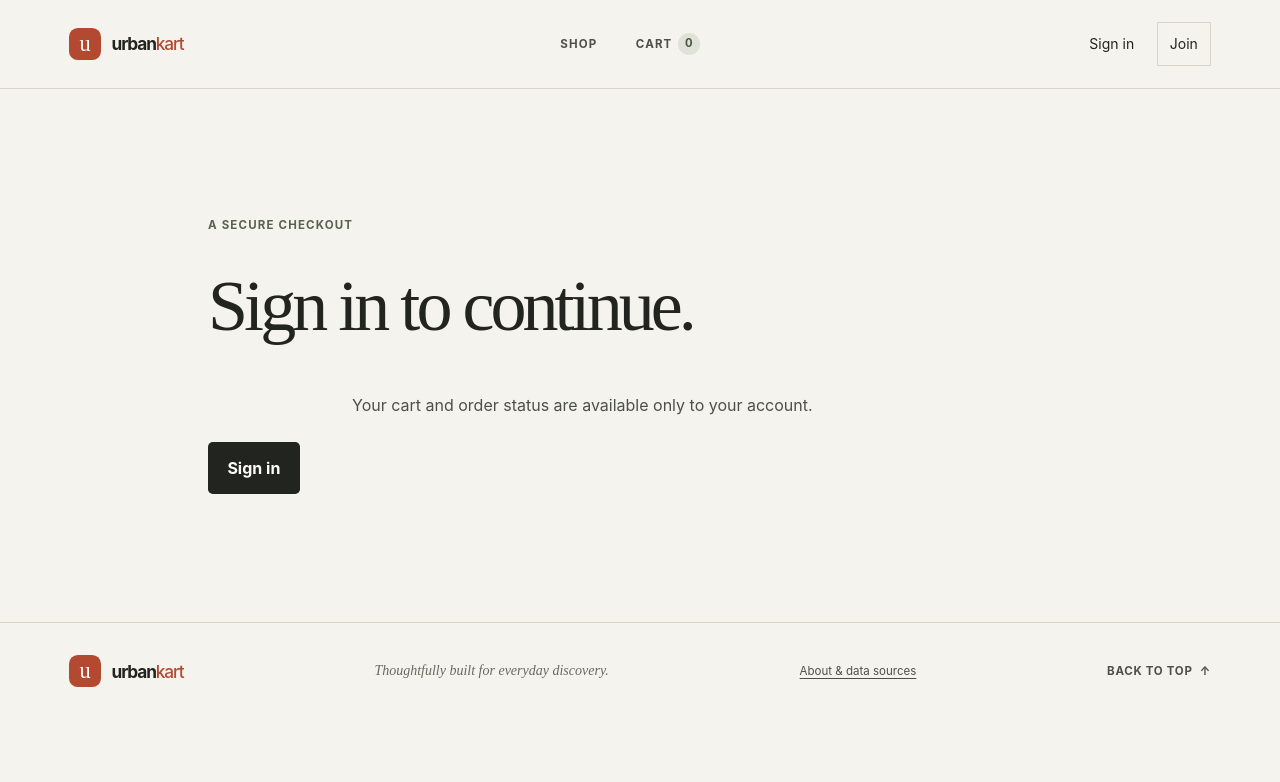
it: Stage H checkout flow › shows a definitive stock conflict without claiming success
Step 1. Click the link "Sign in" below "Sign in to continue." → (254, 468), box [208,442,300,494]
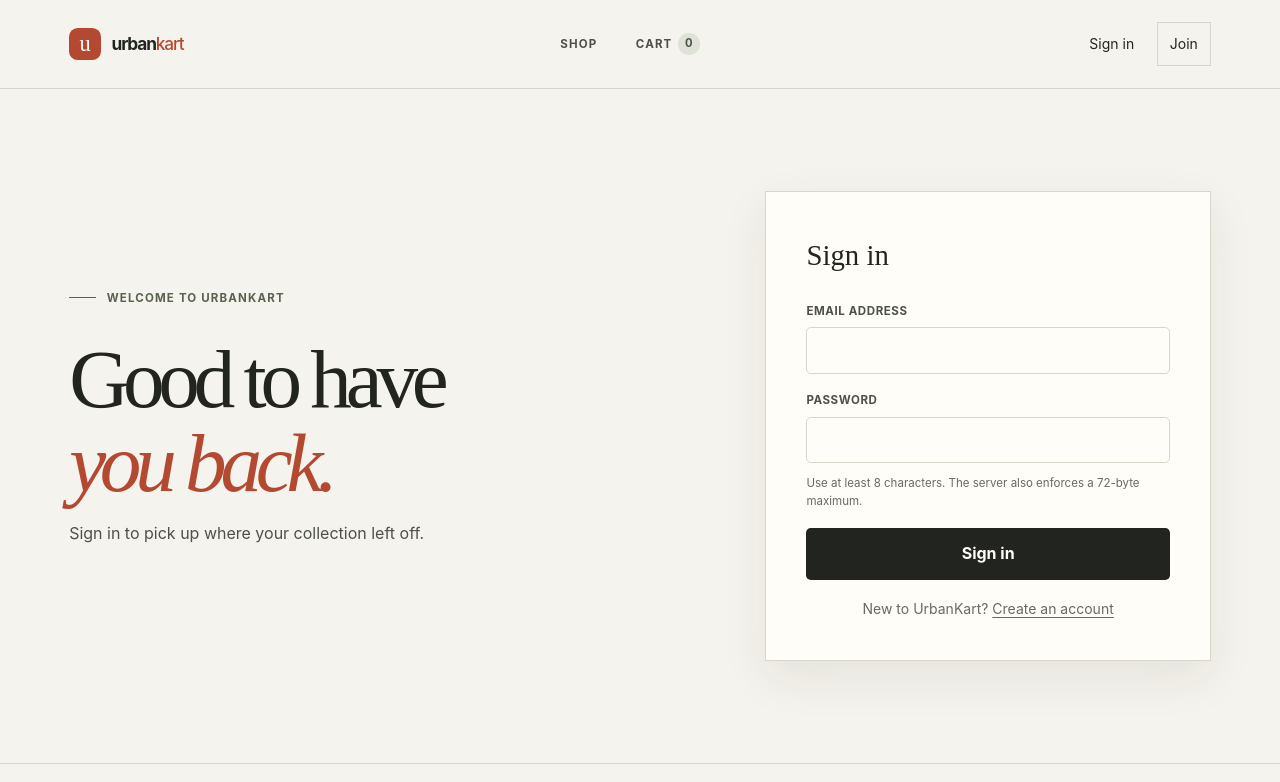
Step 2. Type "shopper@example.test" into the field labelled "Email address" → (988, 350), box [806,327,1170,374]
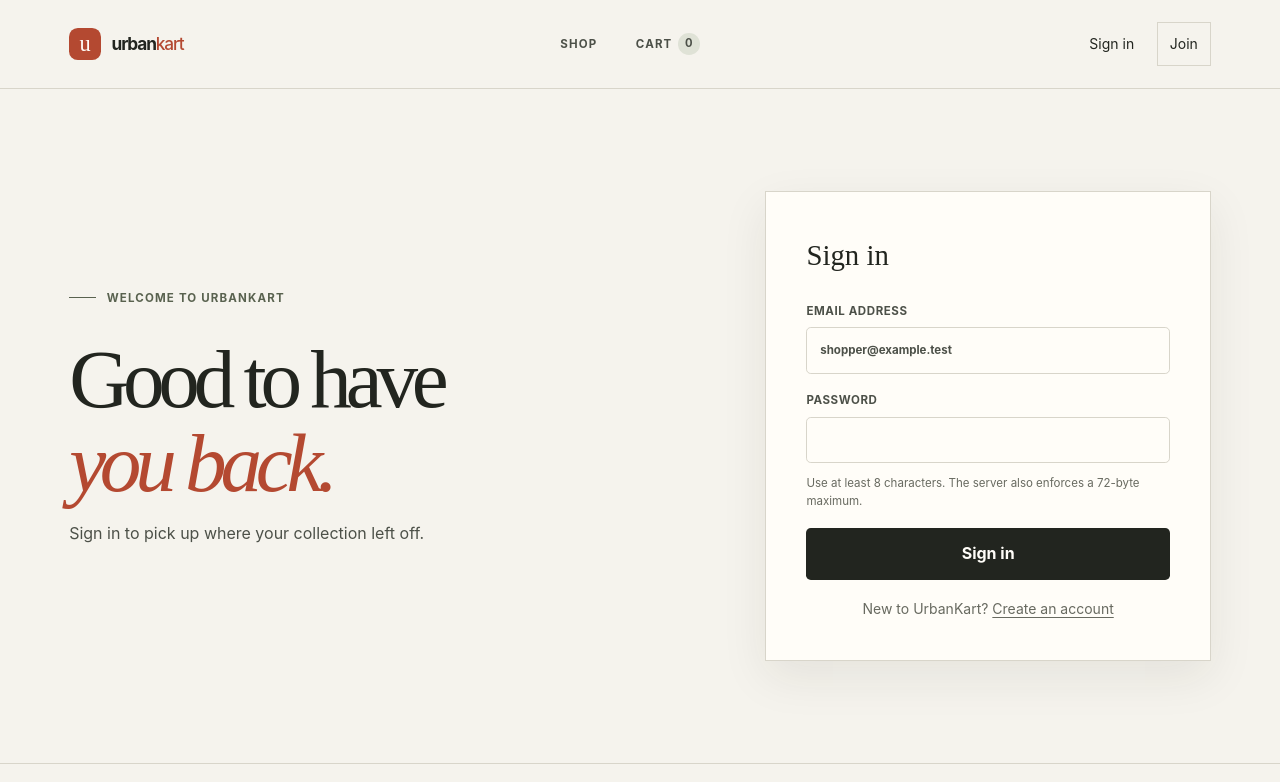
Step 3. Type "correct-horse" into the password field labelled "Password" → (988, 440), box [806,417,1170,463]
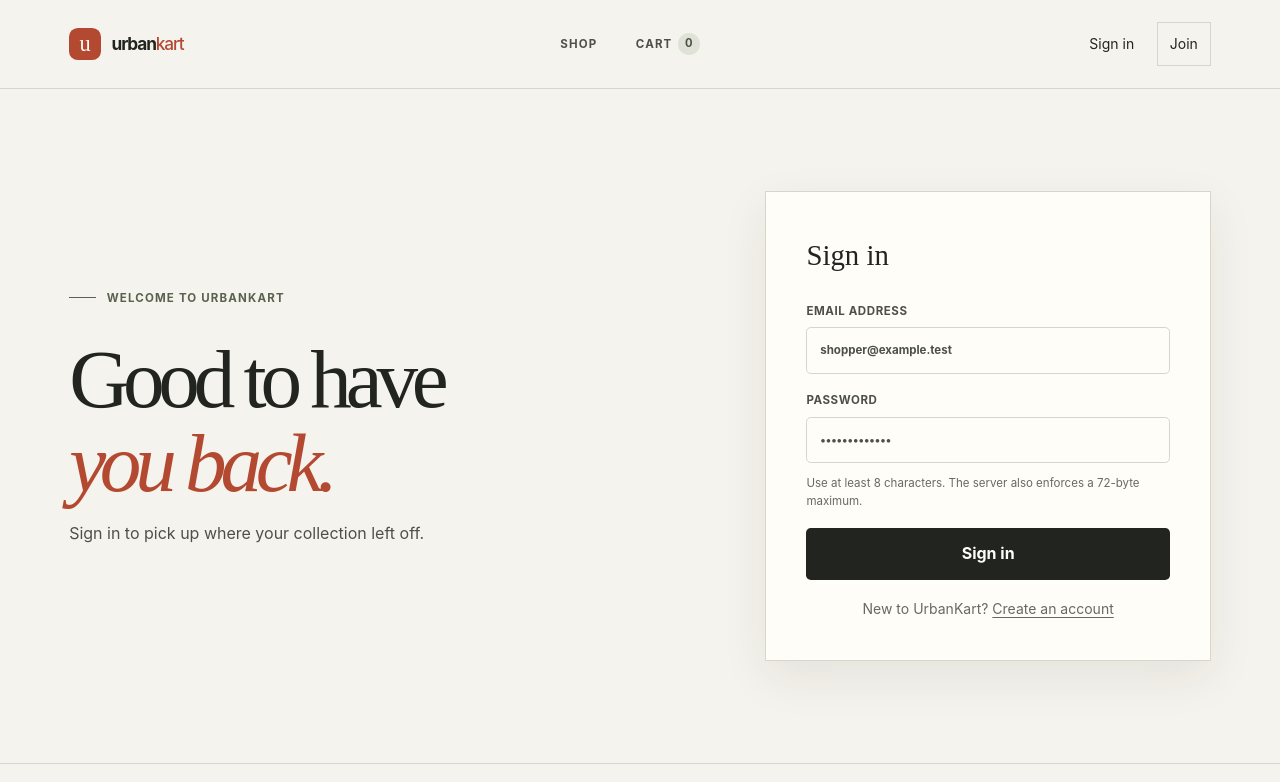
Step 4. Click the button "Sign in" → (988, 554), box [806,528,1170,580]
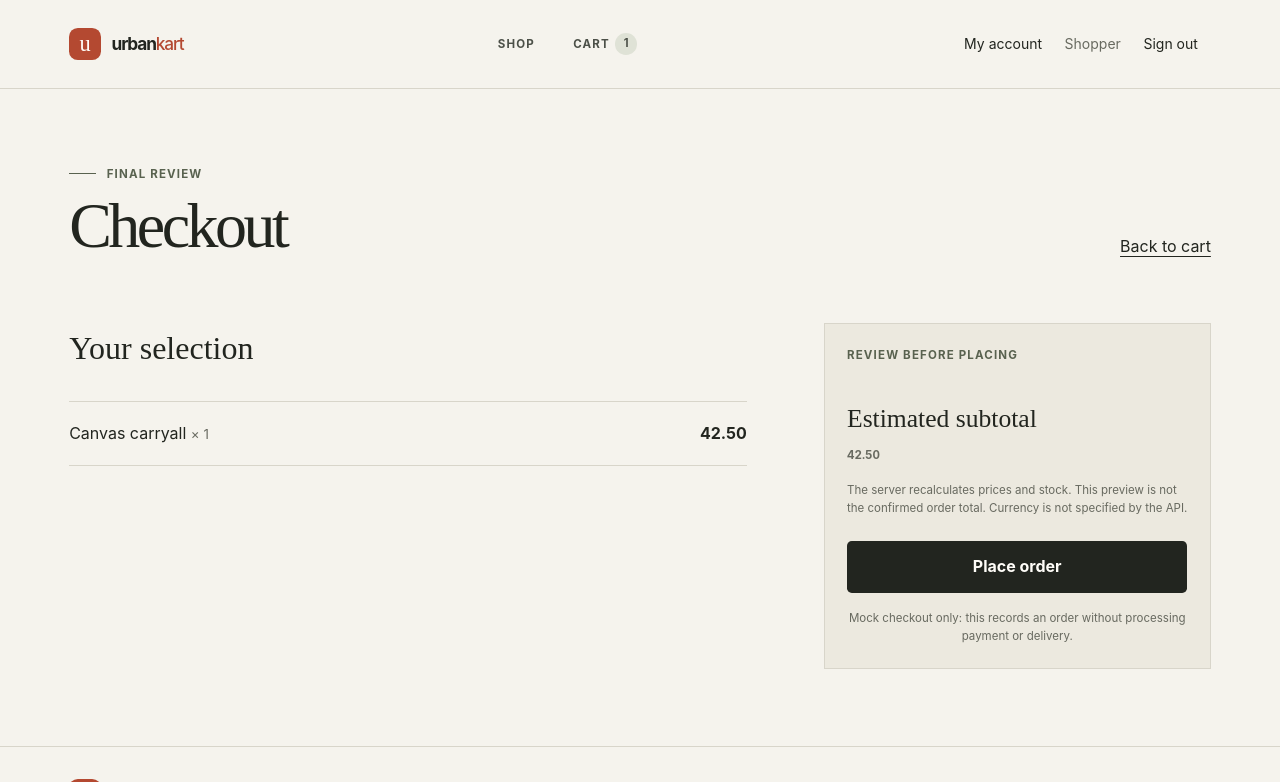
Result: the button "Sign out" is shown at [1130,22,1211,66]
Result: the heading "Checkout" is shown at [69,192,286,260]
Result: the button "Place order" is shown
Step 5. Click the button "Place order" → (1017, 567), box [847,541,1188,593]
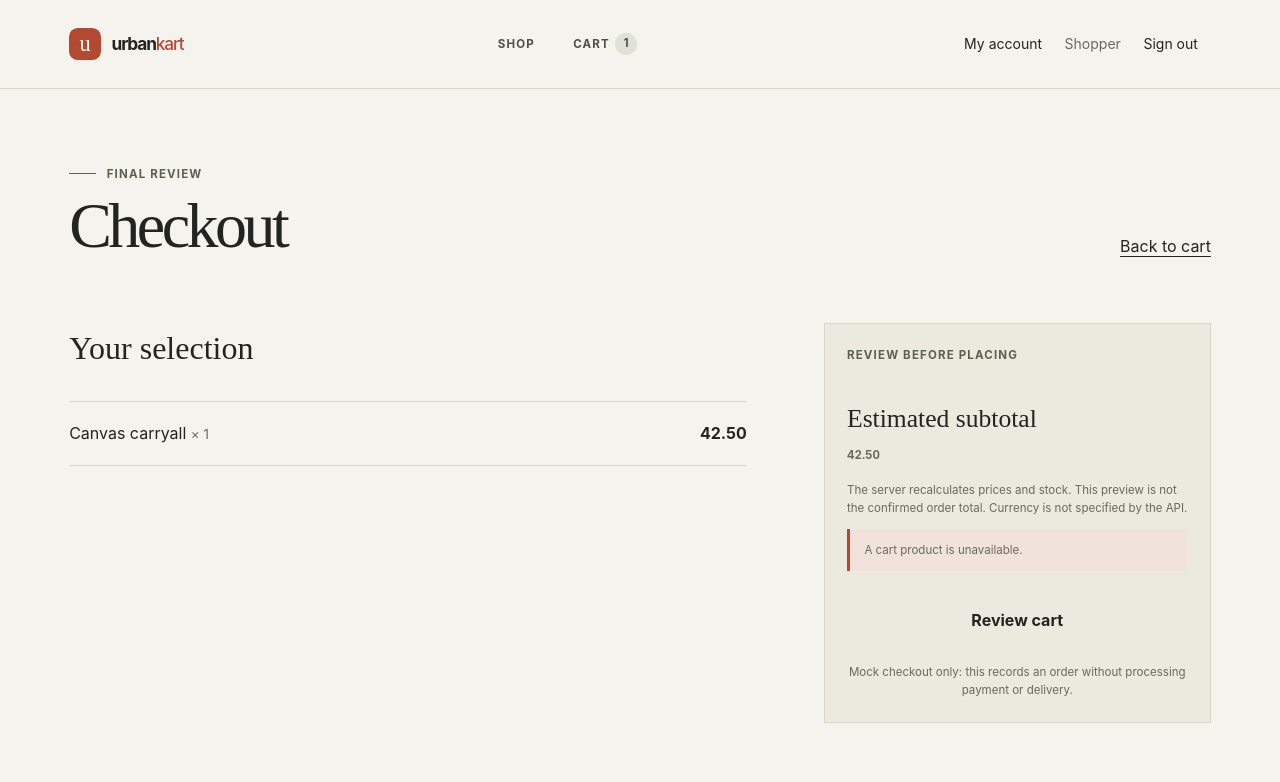
Result: the message "A cart product is unavailable." is shown at [847,529,1188,571]
